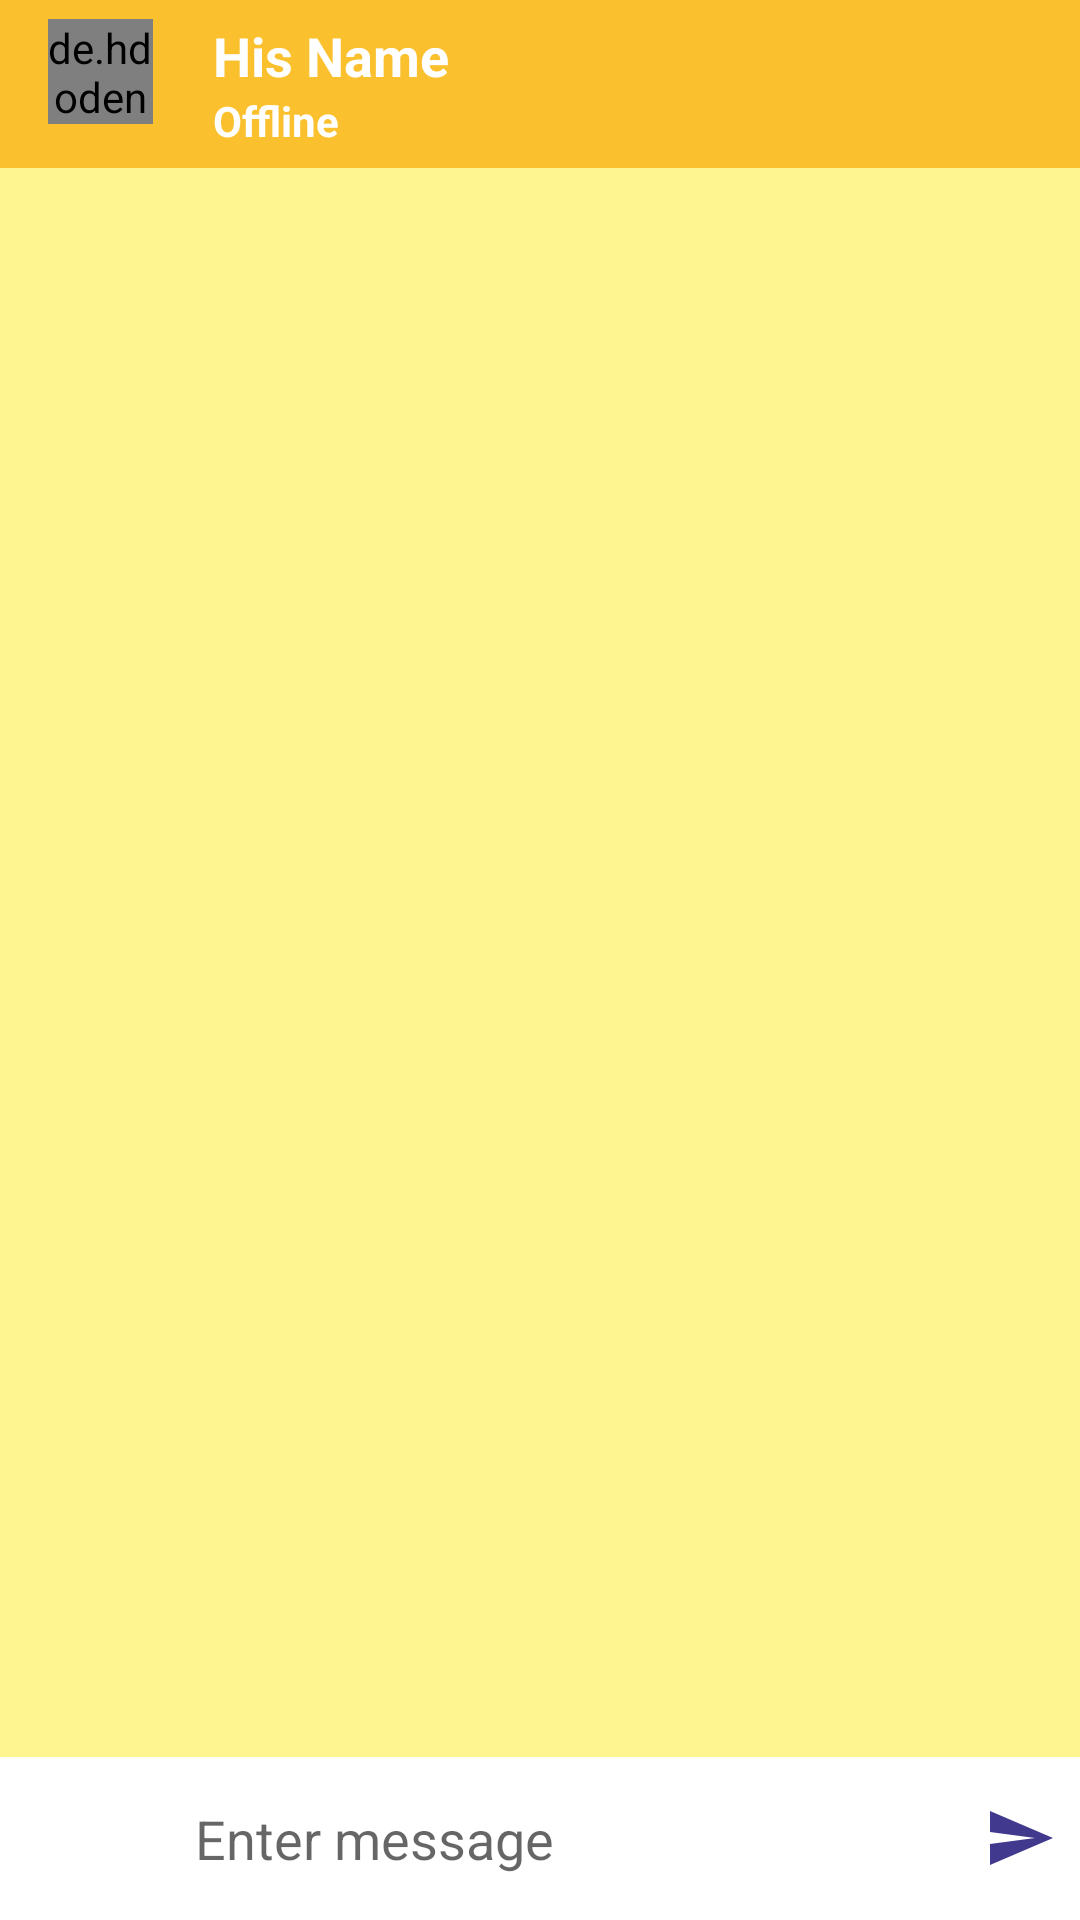

Icon bounding boxes for this 1080x1920 phone screenshot, format (x1, y1, x2, y2):
send: (990, 1811, 1053, 1865)
